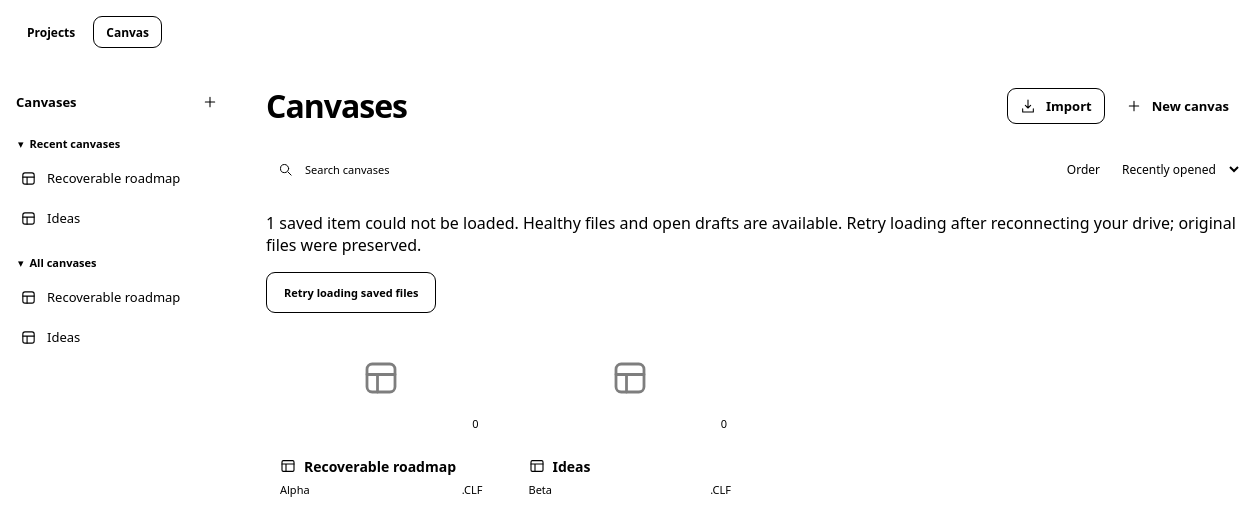
it: native Home catalog and recovery › keeps healthy files and drafts visible with a retry action after a partial read failure
Expected: the button with aria-label "Open canvas Recoverable roadmap in Alpha" is shown, [266, 313, 496, 511]
Expected: the button with aria-label "Open canvas Ideas in Beta" is shown, [514, 313, 745, 511]
Click the button "Retry loading saved files". click: click(351, 292)
box: [266, 272, 436, 313]
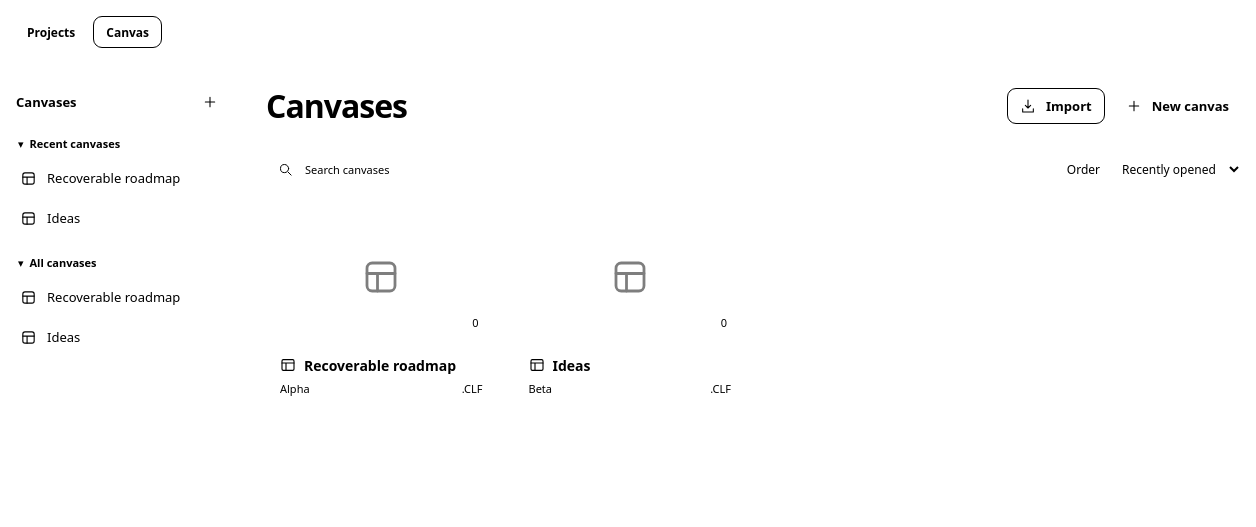
Expected: the button with aria-label "Open canvas Recoverable roadmap in Alpha" is shown, [266, 212, 496, 410]
Expected: the button "Retry loading saved files" is gone
